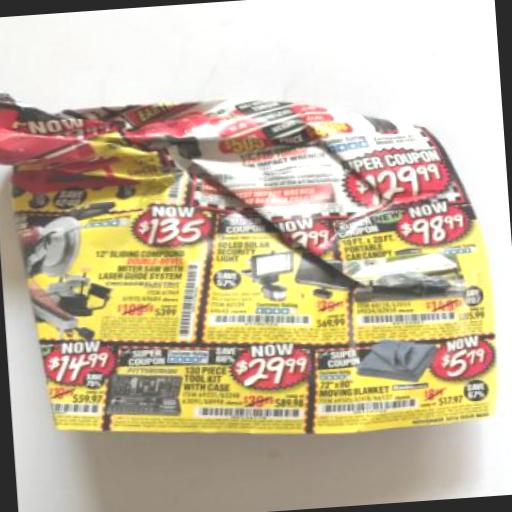paper: (0, 52, 506, 453)
